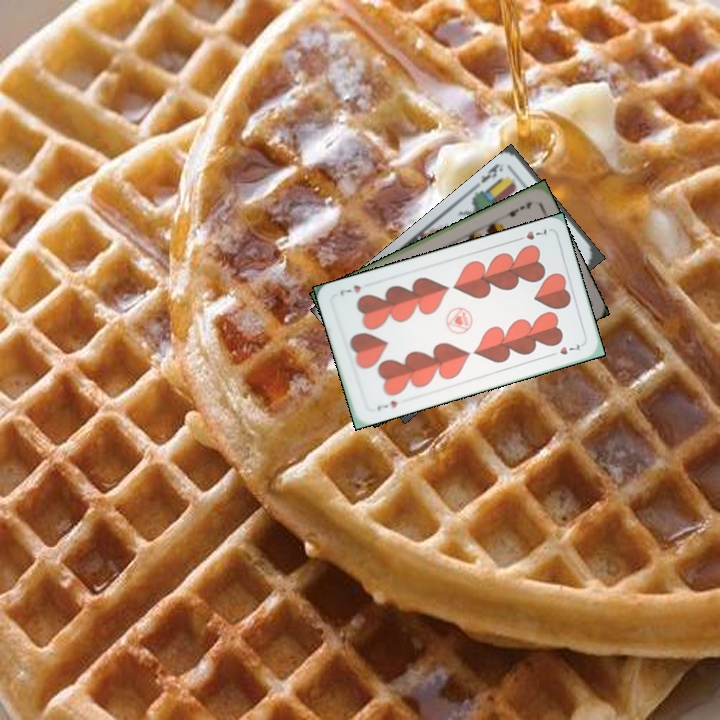E7: (499, 198, 535, 221)
EK: (477, 159, 502, 185)
H7: (511, 224, 551, 244), (373, 396, 400, 413)
